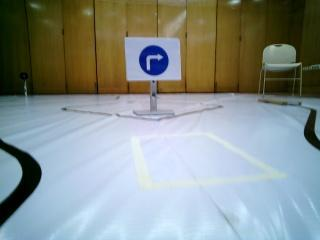right: (123, 40, 184, 79)
